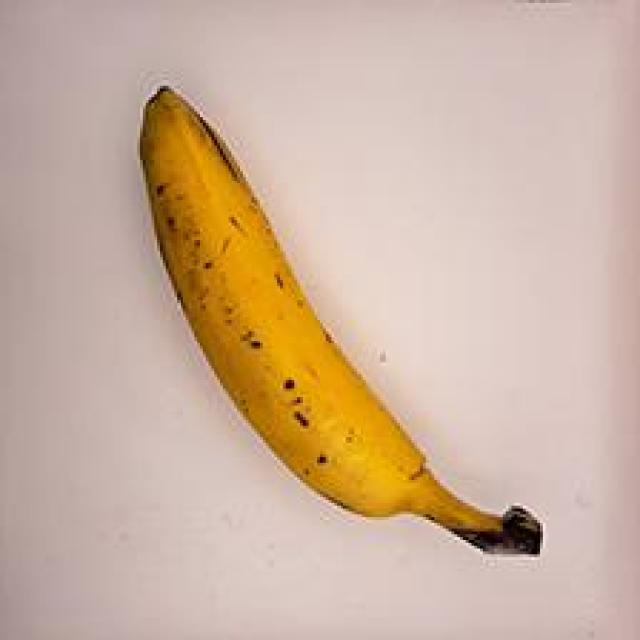Overripe: (95, 58, 559, 602)
